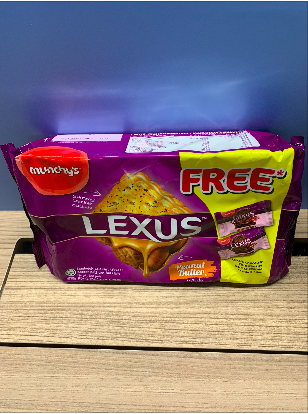Cookies_200-299g: (29, 156, 276, 281)
